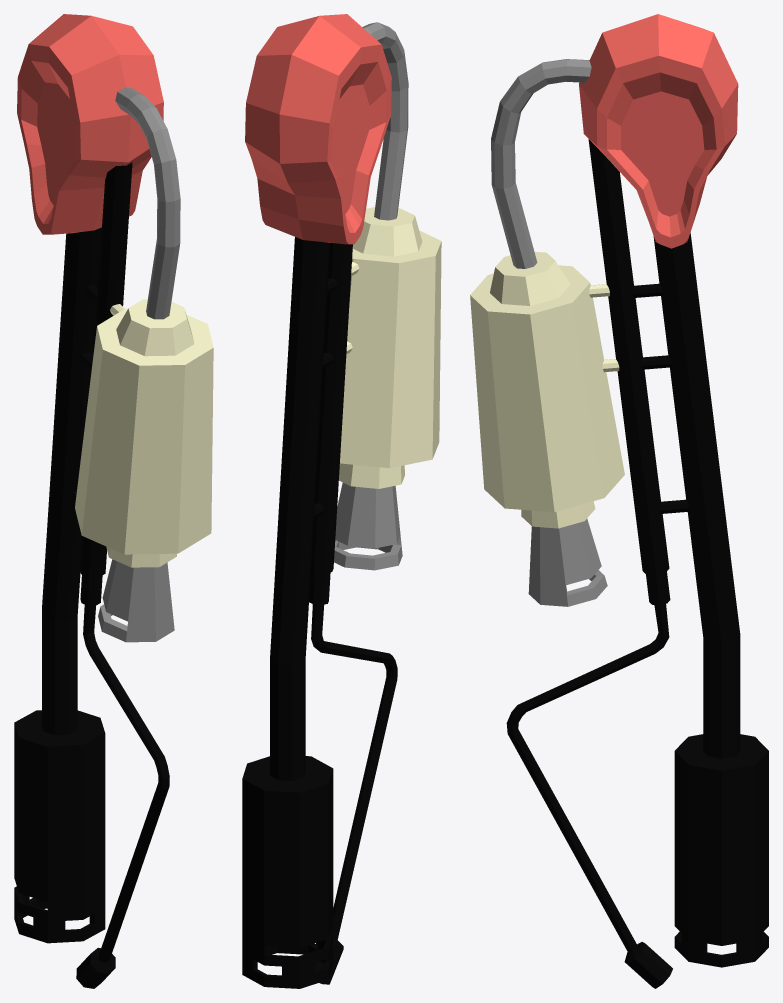
Rendered from Flamethrower.fbx.
3 renders of one model, left to right at view 1: azimuth 30°, elevation 25°; view 2: azimuth 150°, elevation 25°; view 3: azimuth 270°, elevation 25°, orthographic.
Parts seen in each view (by area): view 1: Cylinder.002; view 2: Cylinder.002; view 3: Cylinder.002.
Part boxes in pixels (x1=…): Cylinder.002: x1=14, y1=14, x2=213, y2=988; Cylinder.002: x1=242, y1=14, x2=441, y2=988; Cylinder.002: x1=470, y1=14, x2=768, y2=988.
Bounding box in the file's own units: 0.3018 × 2.28 × 0.6339.
